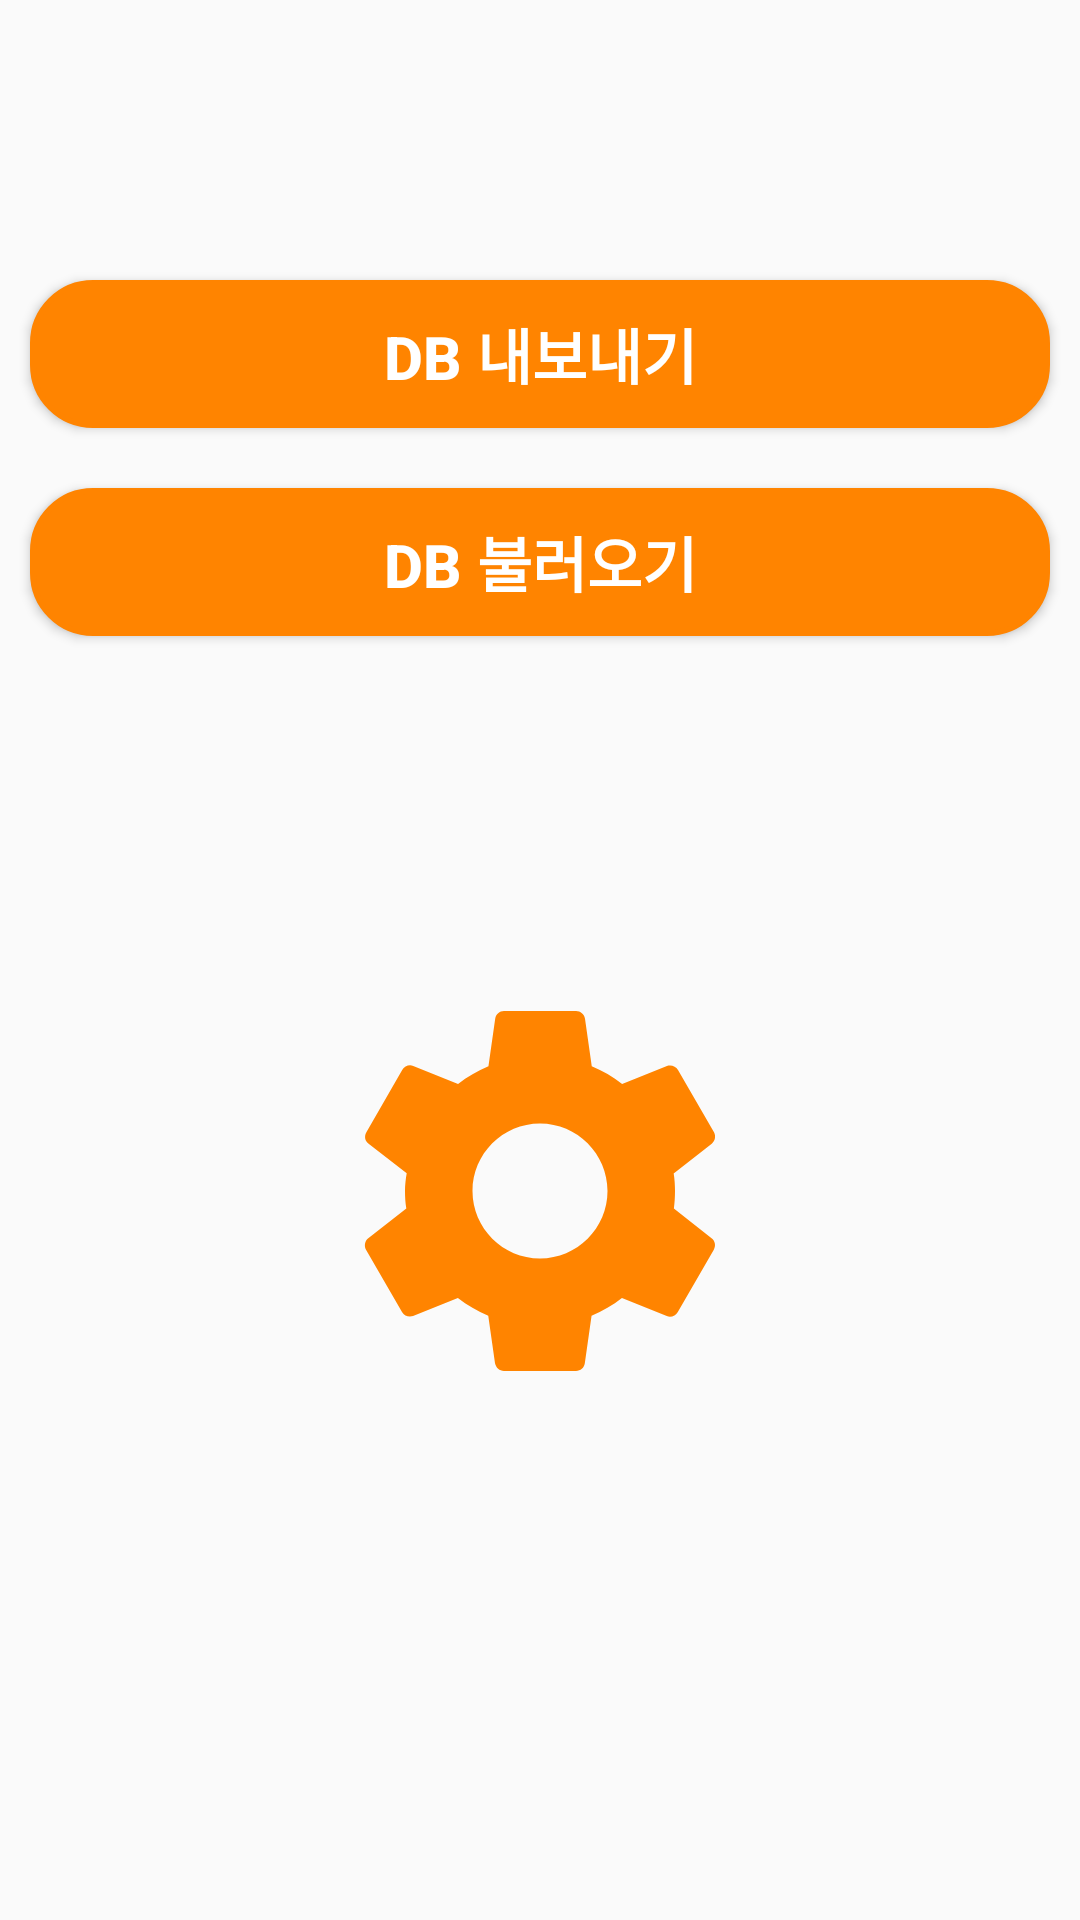

Icon bounding boxes for this 1080px×1920px phone screenshot, format (x1, y1, x2, y2):
setting: (364, 1011, 715, 1371)
